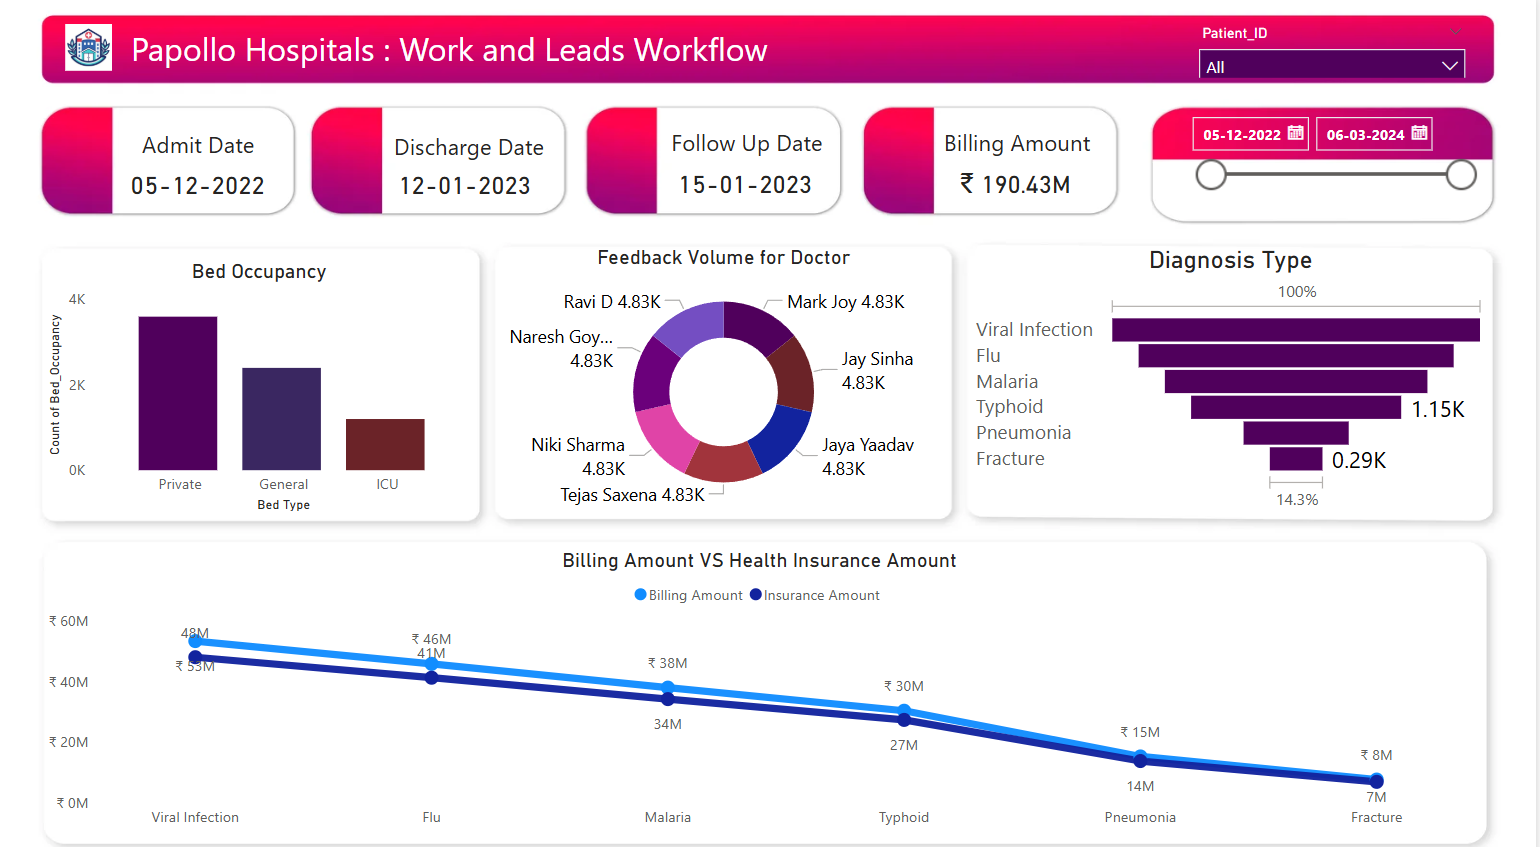

Layout of this report page (visuals, bound fields, positions):
{"tool":"powerbi","page":{"name":"Dashboard","canvas":[1280,720],"ordinal":0},"visuals":[{"type":"textbox","box":[104.5,19.1,559.1,48.2],"z":0},{"type":"image","box":[43.3,17.8,61.1,48.9],"z":1000},{"type":"slicer","fields":{"Values":["Sheet1.Patient_ID"]},"box":[989.1,18.2,241.8,49.1],"z":2000},{"type":"card","fields":{"Values":["Min(Sheet1.Admit_Date)"]},"box":[93.5,137.3,142.7,39.2],"z":3000},{"type":"textbox","box":[113.6,105,115.7,39.3],"z":4000},{"type":"textbox","box":[323.5,106.5,146.2,36.2],"z":5000},{"type":"card","fields":{"Values":["Min(Sheet1.Discharge_Date)"]},"box":[315.9,137.3,142.7,39.2],"z":6000},{"type":"card","fields":{"Values":["Min(Sheet1.Followup Date)"]},"box":[550,137,142,39],"z":7000},{"type":"textbox","box":[550,103,145,54],"z":8000},{"type":"textbox","box":[782,103,143,39],"z":9000},{"type":"card","fields":{"Values":["Sum(Sheet1.Billing Amount)"]},"box":[775,137,142,39],"z":10000},{"type":"clusteredColumnChart","title":"Bed Occupancy","fields":{"Category":["Sheet1.Bed_Occupancy"],"Y":["CountNonNull(Sheet1.Bed_Occupancy)"]},"box":[35,218,362,215],"z":11000},{"type":"donutChart","title":"Feedback Volume for Doctor","fields":{"Category":["Sheet1.Doctor"],"Y":["Sum(Sheet1.Feedback)"]},"box":[415,207,376,226],"z":12000},{"type":"funnel","title":"Diagnosis  Type","fields":{"Category":["Sheet1.Diagnosis"],"Y":["CountNonNull(Sheet1.Diagnosis)"]},"box":[808,207,435,226],"z":13000},{"type":"lineChart","title":"Billing Amount VS  Health Insurance Amount","fields":{"Y":["Sum(Sheet1.Billing Amount)","Sum(Sheet1.Health Insurance Amount)"],"Category":["Sheet1.Diagnosis"]},"box":[35,459,1196,242],"z":14000},{"type":"slicer","fields":{"Values":["Sheet1.Admit_Date"]},"box":[981,90,258,94],"z":14001}]}

Visuals, with their boxes in screenshot pixels (x1, y1, x2, y2), scaled from the page's 1280x720 canvas onto the 1540x847 screenshot:
textbox: 126:22:798:79
image: 52:21:126:78
slicer - Sheet1.Patient_ID: 1190:21:1481:79
card - Min(Sheet1.Admit_Date): 112:162:284:208
textbox: 137:124:276:170
textbox: 389:125:565:168
card - Min(Sheet1.Discharge_Date): 380:162:552:208
card - Min(Sheet1.Followup Date): 662:161:833:207
textbox: 662:121:836:185
textbox: 941:121:1113:167
card - Sum(Sheet1.Billing Amount): 932:161:1103:207
"Bed Occupancy" clusteredColumnChart: 42:256:478:509
"Feedback Volume for Doctor" donutChart: 499:244:952:509
"Diagnosis  Type" funnel: 972:244:1495:509
"Billing Amount VS  Health Insurance Amount" lineChart: 42:540:1481:825
slicer - Sheet1.Admit_Date: 1180:106:1491:216
